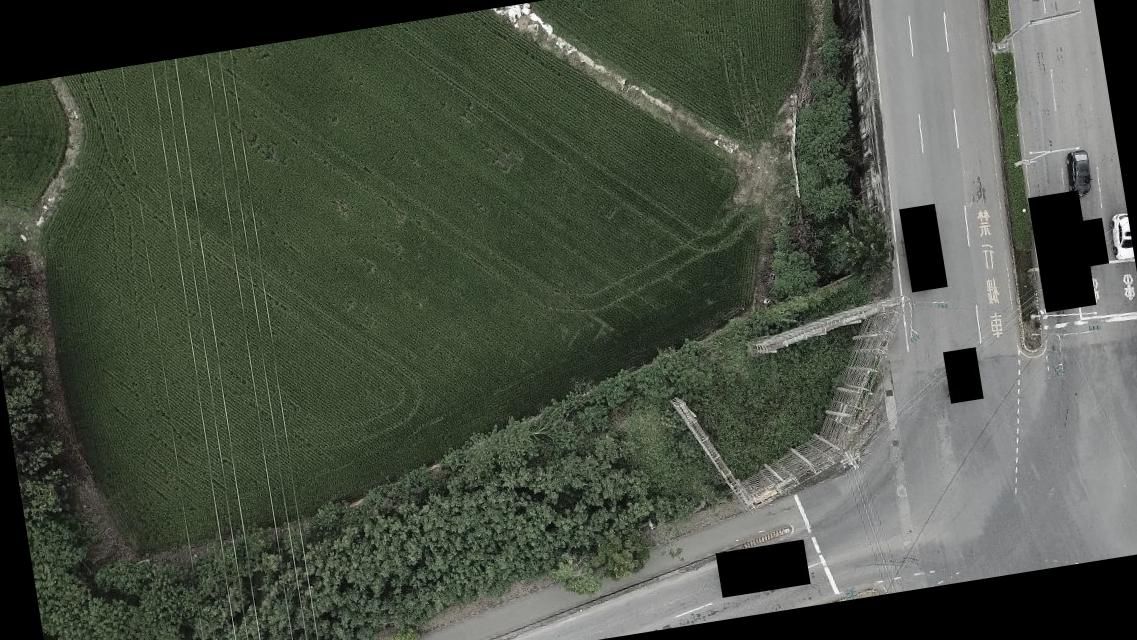vehicle: (1064, 146, 1096, 197), (1106, 210, 1133, 262)
